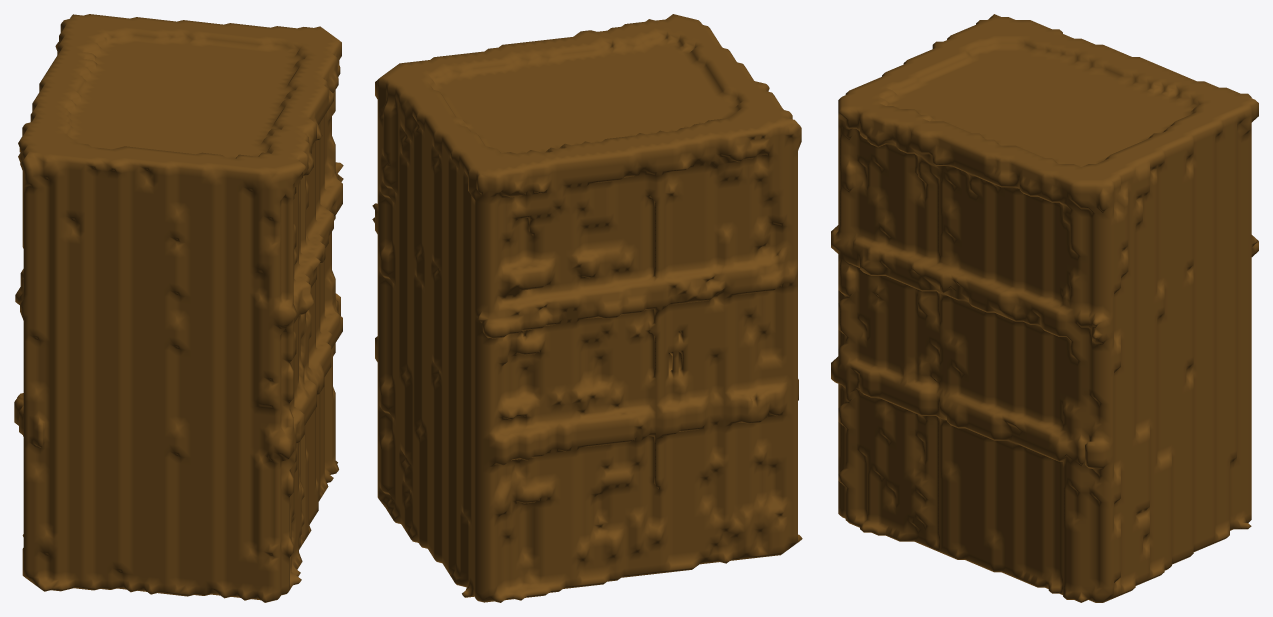
File: gen9_colored.obj
The picture shows the model from 3 angles, left to right: view 1: azimuth 30°, elevation 25°; view 2: azimuth 150°, elevation 25°; view 3: azimuth 270°, elevation 25°; orthographic projection. The views are drawn at different scales.
Parts seen in each view (by area): view 1: gen9.obj; view 2: gen9.obj; view 3: gen9.obj.
Boxes of the visible parts, x1=… form: gen9.obj: x1=14, y1=14, x2=343, y2=602; gen9.obj: x1=372, y1=14, x2=802, y2=602; gen9.obj: x1=831, y1=14, x2=1258, y2=602.
Size of the model in its own units: 58 by 64 by 59.
